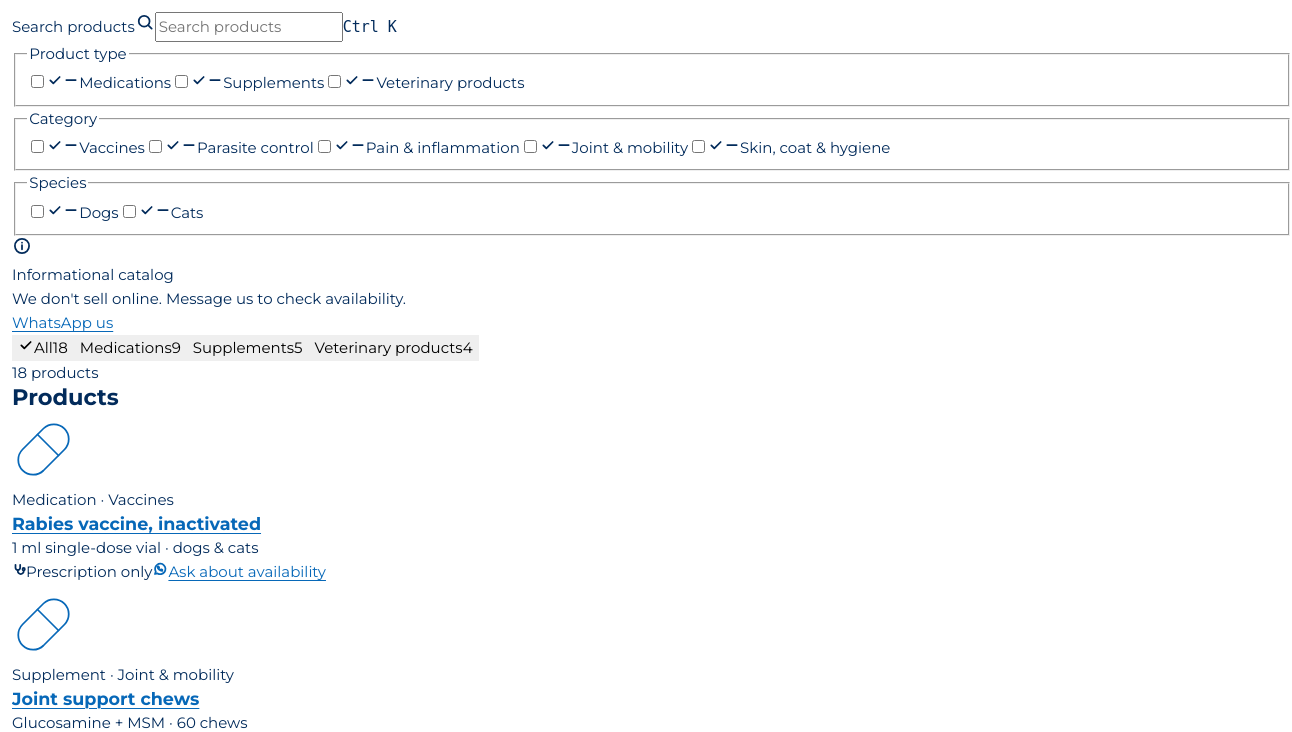
Test: ProductCatalog › filters by kind chip and returns to the first page
The image size is (1292, 732).
Click the button "Veterinary products4": (394, 348) [309,335,479,361]
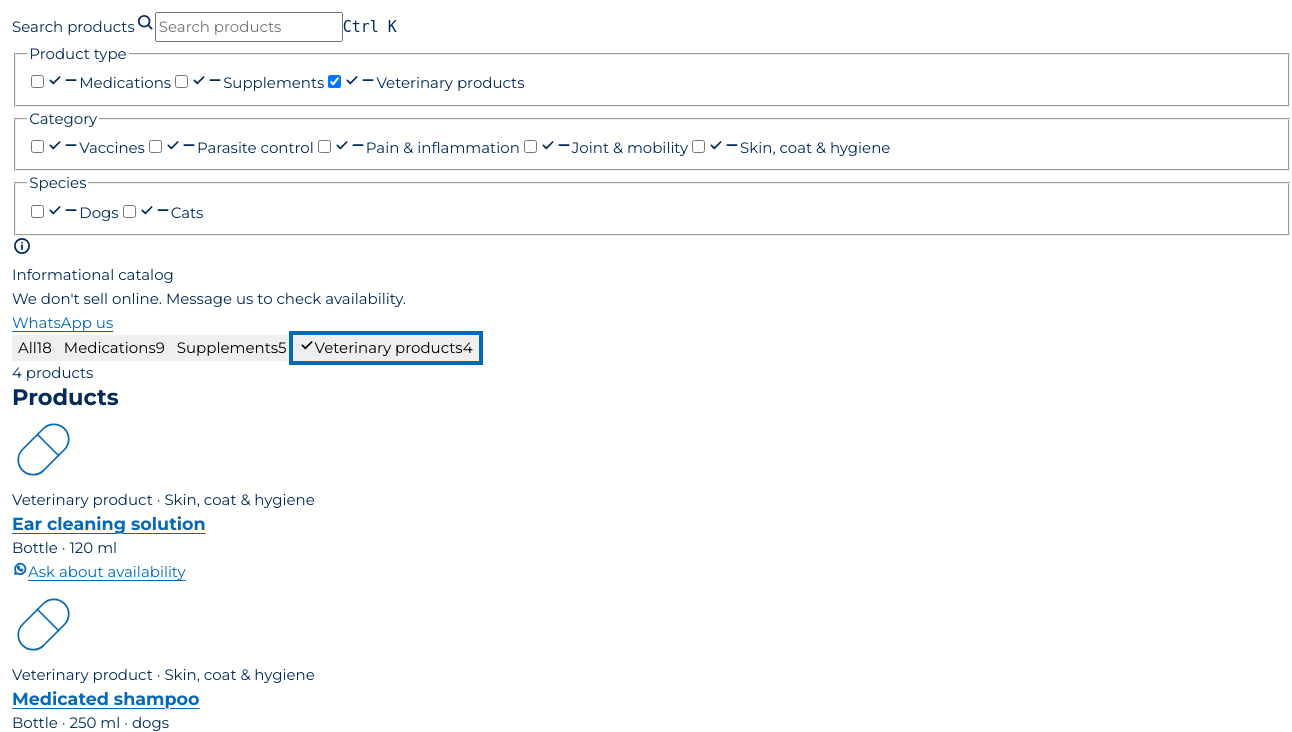
Result: the text "4 products" is shown at [12,363,93,382]
